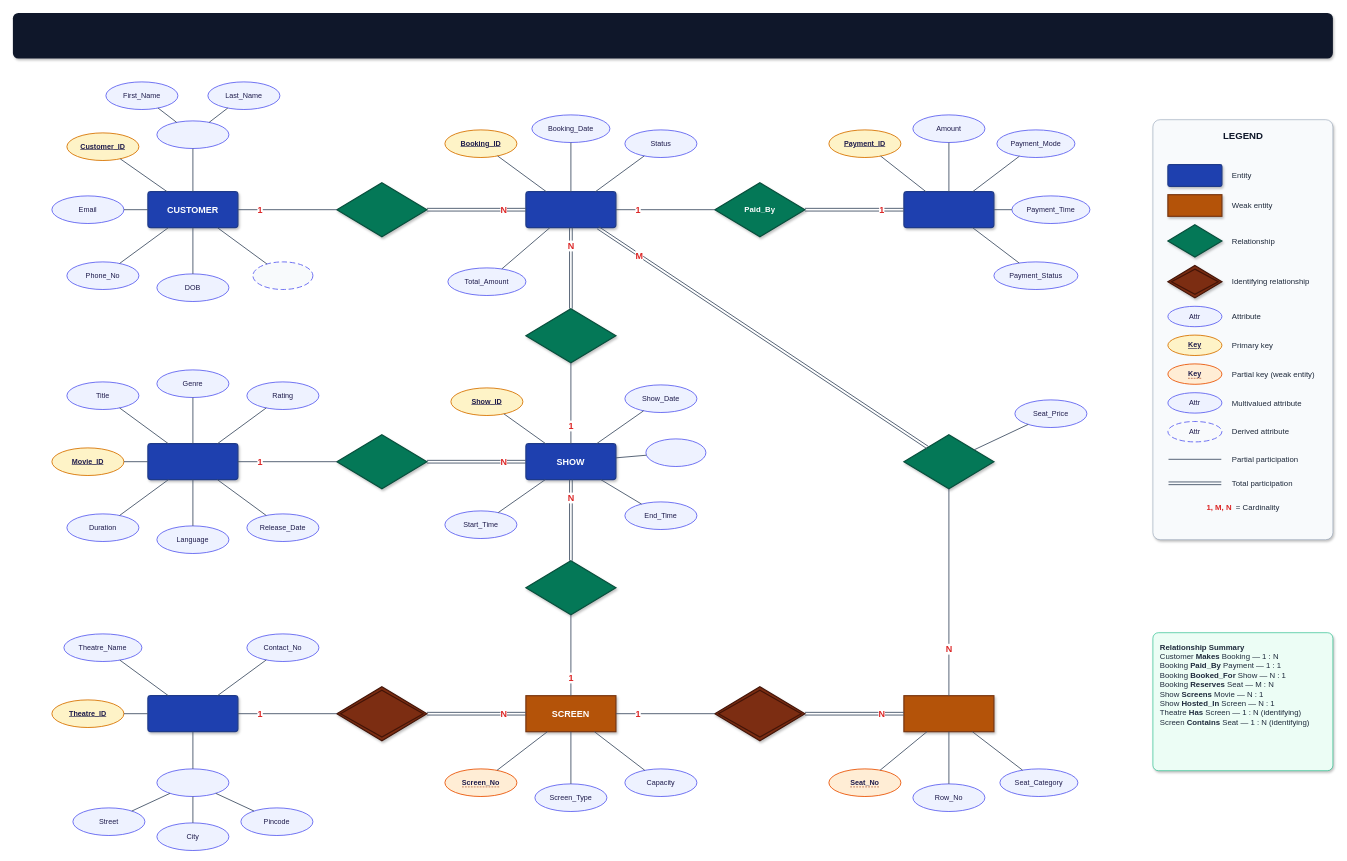
This 1347x861 diagram has some shape labels left out. The shapes that lost their labels are listed below. From the top down, each one's centre as x and y in pixels, then its label:
At pixel 673 36: "MOVIE TICKET BOOKING SYSTEM Entity–Relationship Diagram • Chen Notation".
At pixel 192 134: "Name".
At pixel 382 210: "Makes".
At pixel 571 210: "BOOKING".
At pixel 949 210: "PAYMENT".
At pixel 282 275: "Age".
At pixel 571 336: "Booked_For".
At pixel 193 462: "MOVIE".
At pixel 382 462: "Screens".
At pixel 675 452: "Format".
At pixel 949 462: "Reserves".
At pixel 571 588: "Hosted_In".
At pixel 193 714: "THEATRE".
At pixel 382 714: "Has".
At pixel 760 714: "Contains".
At pixel 949 714: "SEAT".
At pixel 192 782: "Address".
